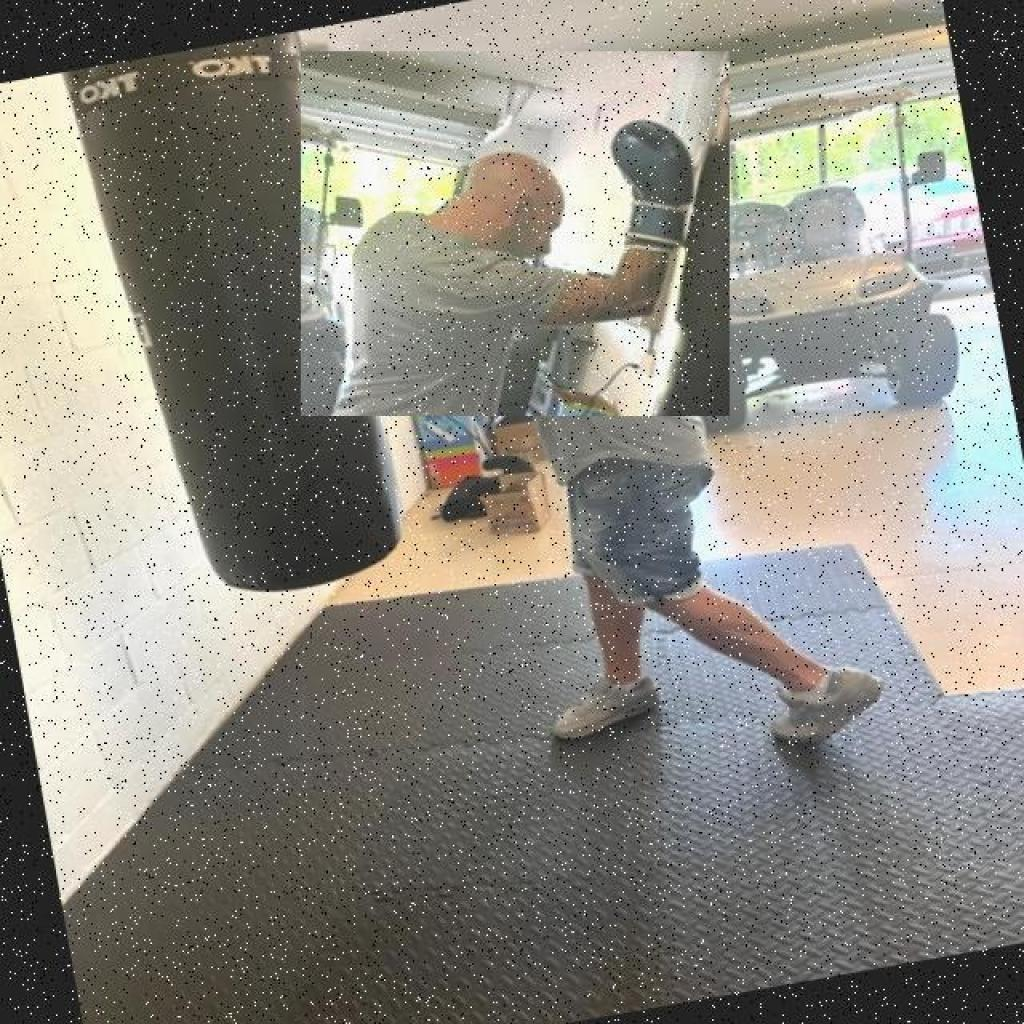uppercut: (300, 51, 730, 415)
